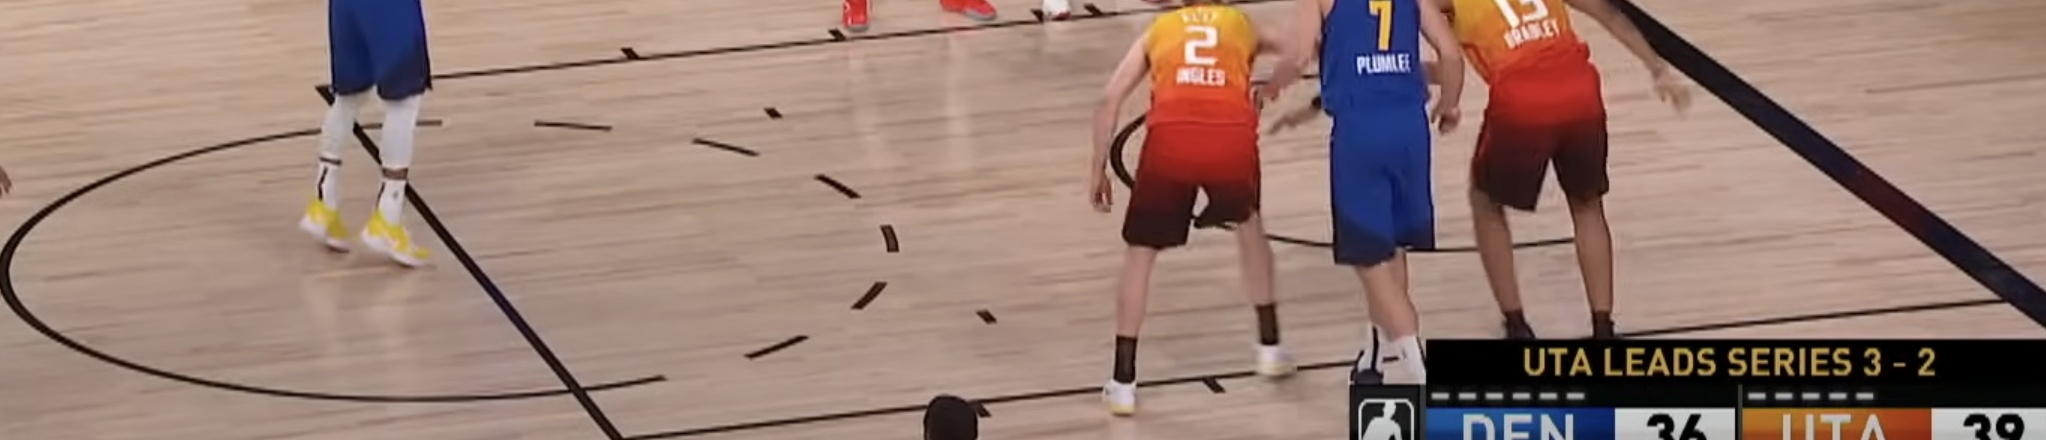endLine: (1597, 3, 2009, 302)
freeThrow: (322, 84, 618, 440)
lane: (618, 298, 2006, 436), (322, 1, 1290, 85)
